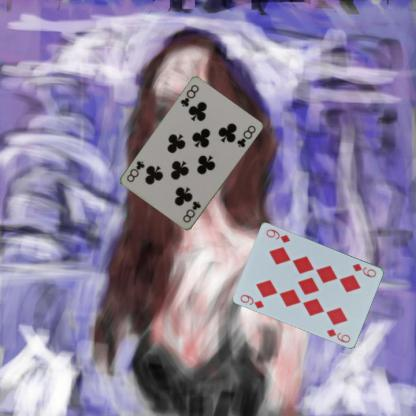8c: (180, 197, 203, 224), (178, 82, 200, 109)
9d: (349, 260, 378, 278), (237, 292, 266, 310)
